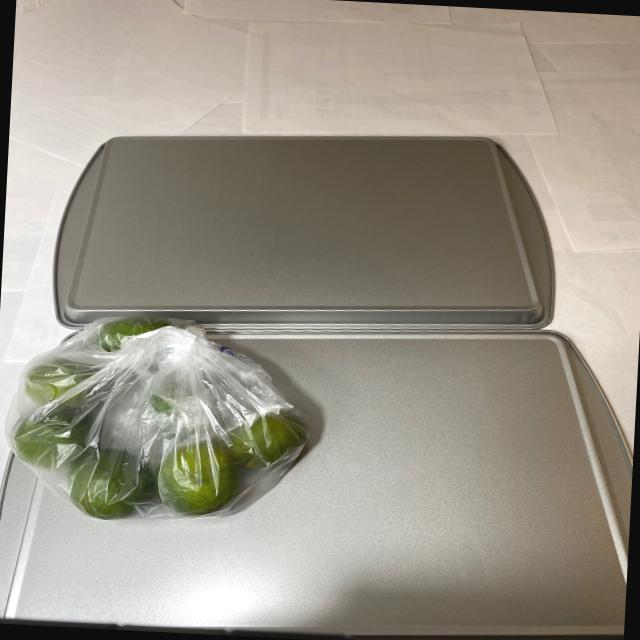lemon: (11, 306, 310, 532)
